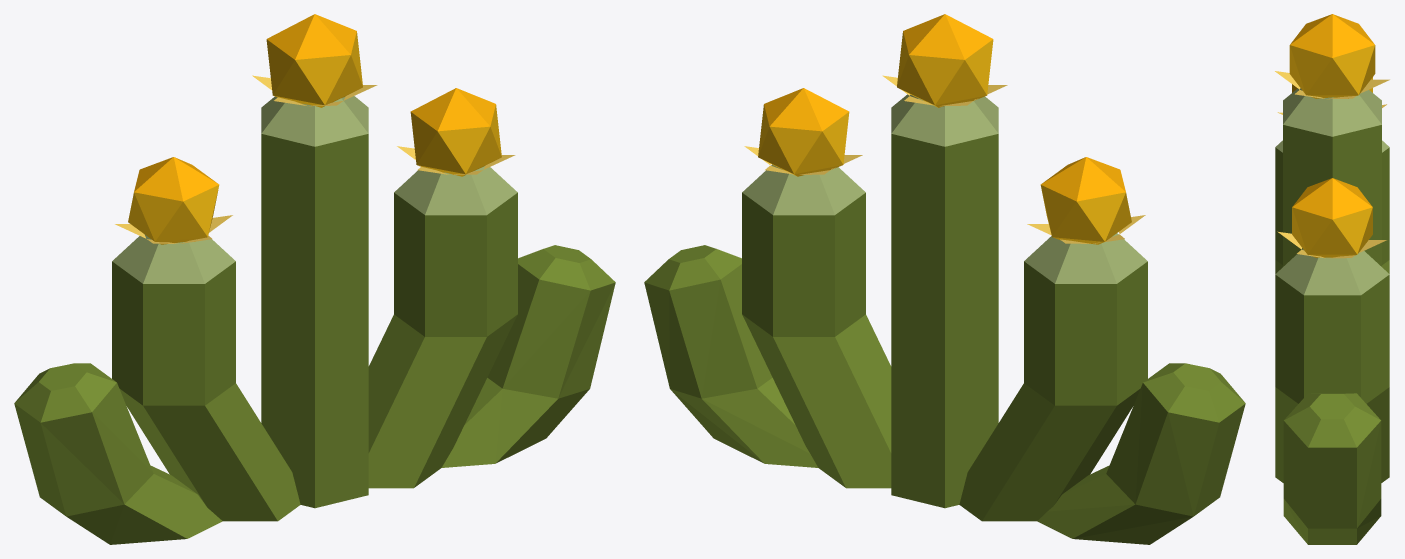
Rendered from TB_D_Env_CactusE_A.FBX.
3 renders of one model, left to right at view 1: azimuth 30°, elevation 25°; view 2: azimuth 150°, elevation 25°; view 3: azimuth 270°, elevation 25°, orthographic. The views are drawn at different scales.
Parts seen in each view (by area): view 1: TB_D_Env_CactusE_A; view 2: TB_D_Env_CactusE_A; view 3: TB_D_Env_CactusE_A.
Part boxes in pixels (x1,y1,x2,y2): TB_D_Env_CactusE_A: (14, 14, 615, 544); TB_D_Env_CactusE_A: (644, 14, 1245, 544); TB_D_Env_CactusE_A: (1275, 14, 1389, 544).
Bounding box in the file's own units: 2.65 × 2.06 × 0.5053.
